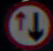Two way: (11, 4, 48, 45)
